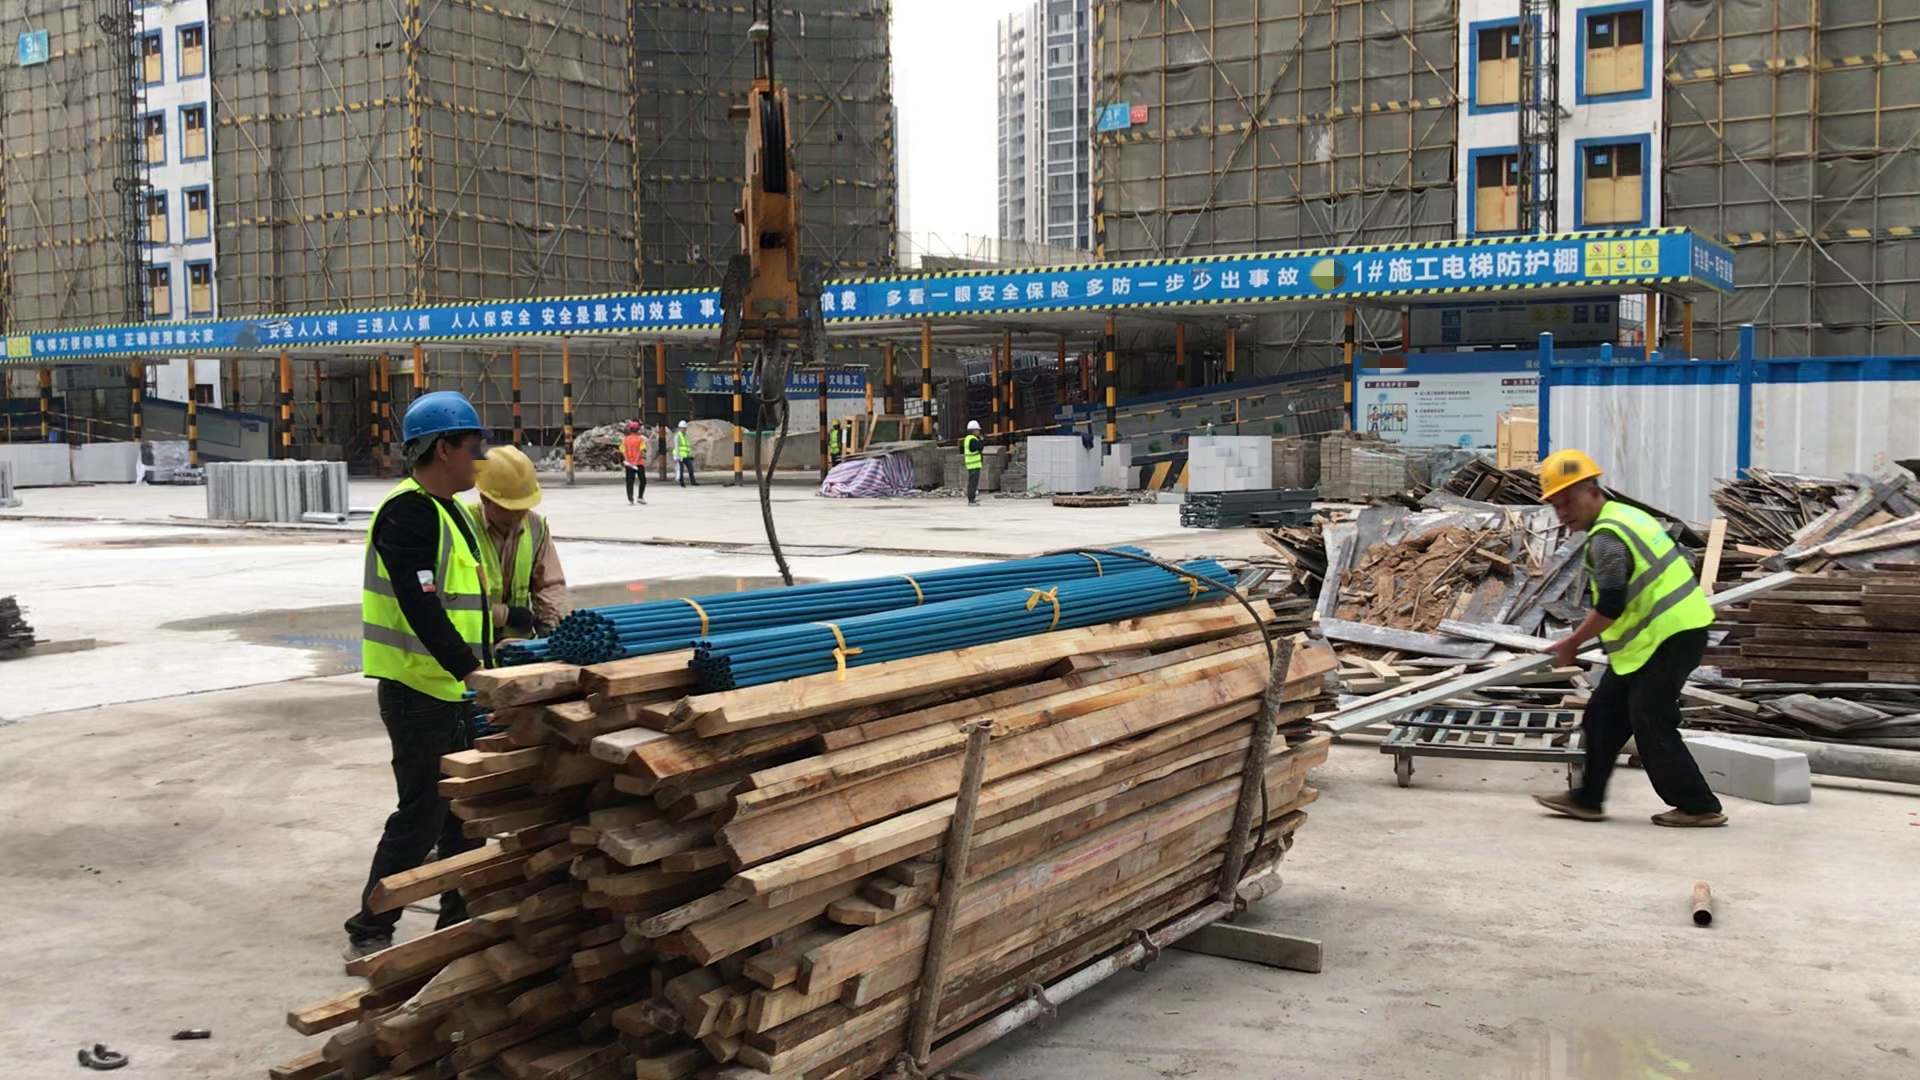board: (1268, 485, 1585, 661), (1692, 450, 1920, 594)
brick: (1652, 731, 1814, 820), (1, 438, 207, 488), (1018, 427, 1146, 496), (1169, 423, 1283, 495)
fence: (1010, 380, 1350, 454)
helmet: (473, 434, 547, 527), (385, 384, 492, 447), (1532, 434, 1615, 512), (965, 418, 987, 438), (675, 417, 693, 433), (624, 418, 643, 433), (830, 418, 843, 431)
hook: (646, 16, 950, 453)
person: (1508, 433, 1748, 853), (347, 370, 481, 992), (477, 433, 583, 653), (613, 408, 659, 518), (951, 415, 998, 519), (665, 410, 708, 496), (824, 415, 850, 469)
slogan: (1, 223, 1695, 377), (1345, 342, 1550, 451), (676, 357, 880, 418), (1680, 218, 1746, 311), (1091, 81, 1156, 142), (6, 14, 58, 73)
vest: (357, 473, 490, 707), (1576, 501, 1720, 681), (471, 505, 556, 631), (621, 430, 650, 470), (961, 434, 988, 472), (674, 430, 694, 460), (829, 426, 845, 462)
wood: (242, 532, 1377, 1080), (1713, 547, 1920, 727), (1313, 436, 1414, 497), (937, 443, 1025, 495), (895, 436, 947, 481), (1273, 437, 1319, 485)
